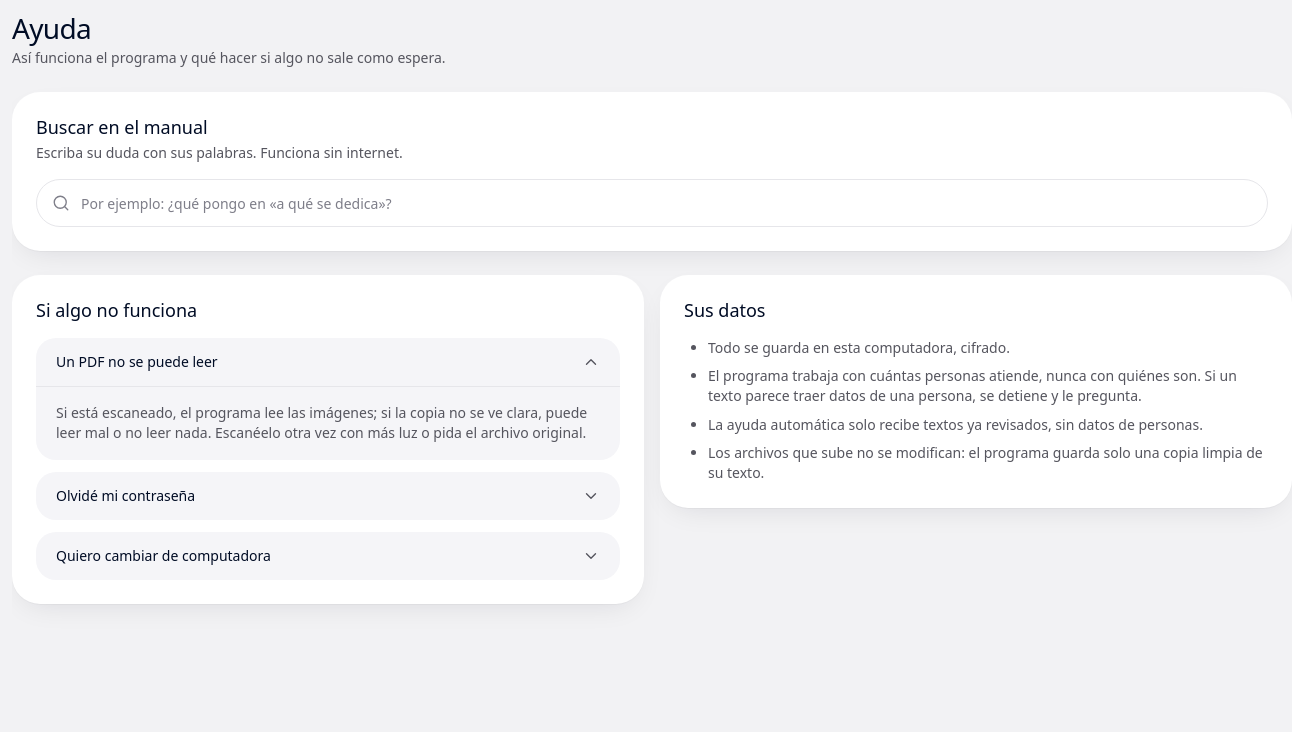
it: the search in the manual, in Ayuda › says so when nothing is found, and does not search a word too short
The width and height of the screenshot is (1292, 732).
Type "ab" into the search field named "Buscar en el manual" at (652, 203), box x1=36 y1=179 x2=1268 y2=227
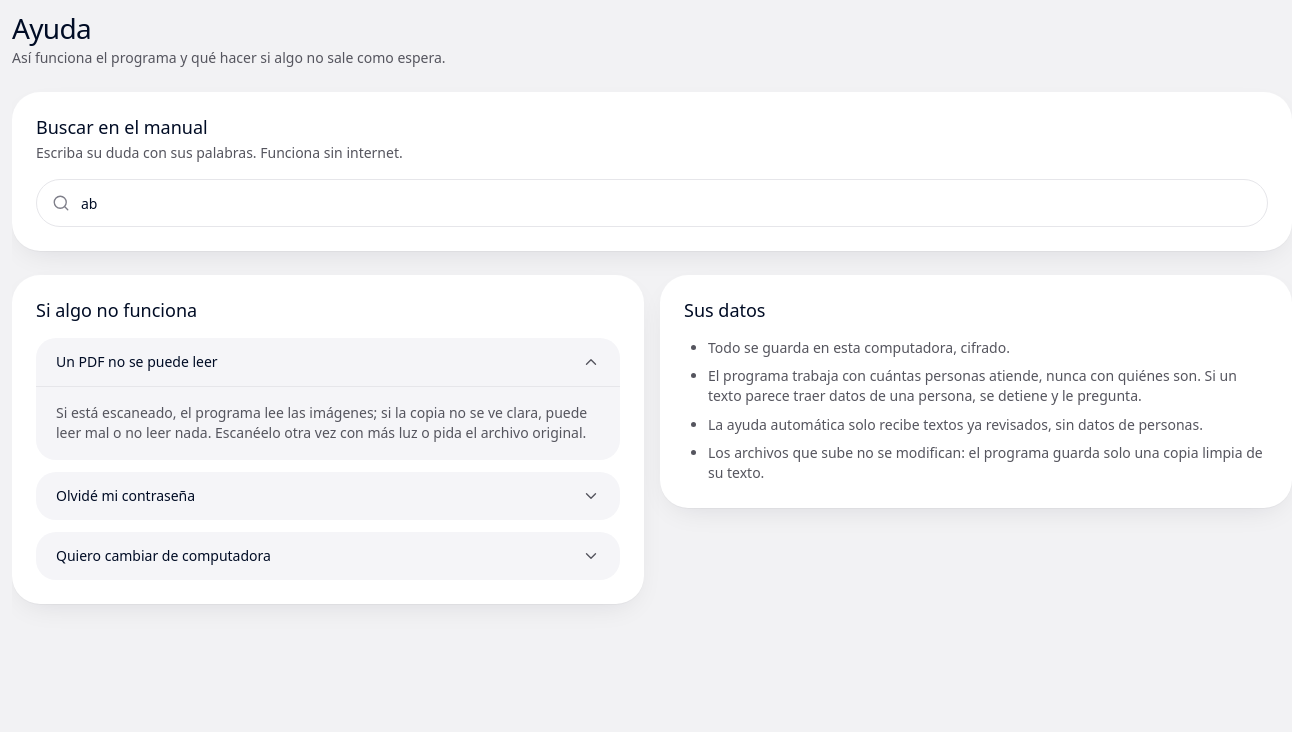
Replace the text in the search field named "Buscar en el manual" with "zanahoria" at (652, 203), box x1=36 y1=179 x2=1268 y2=227
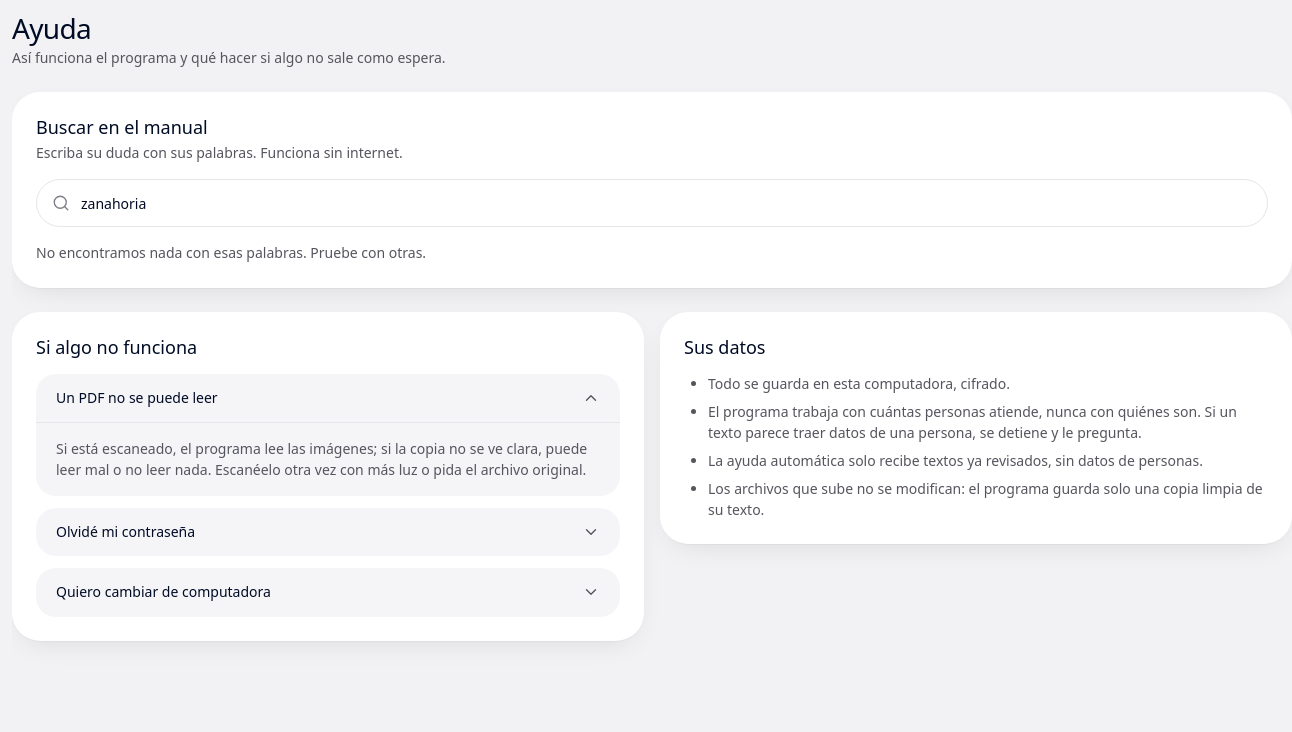
Expected: the text "No encontramos nada con esas palabras. Pruebe con otras." is shown, x1=36 y1=243 x2=426 y2=262
